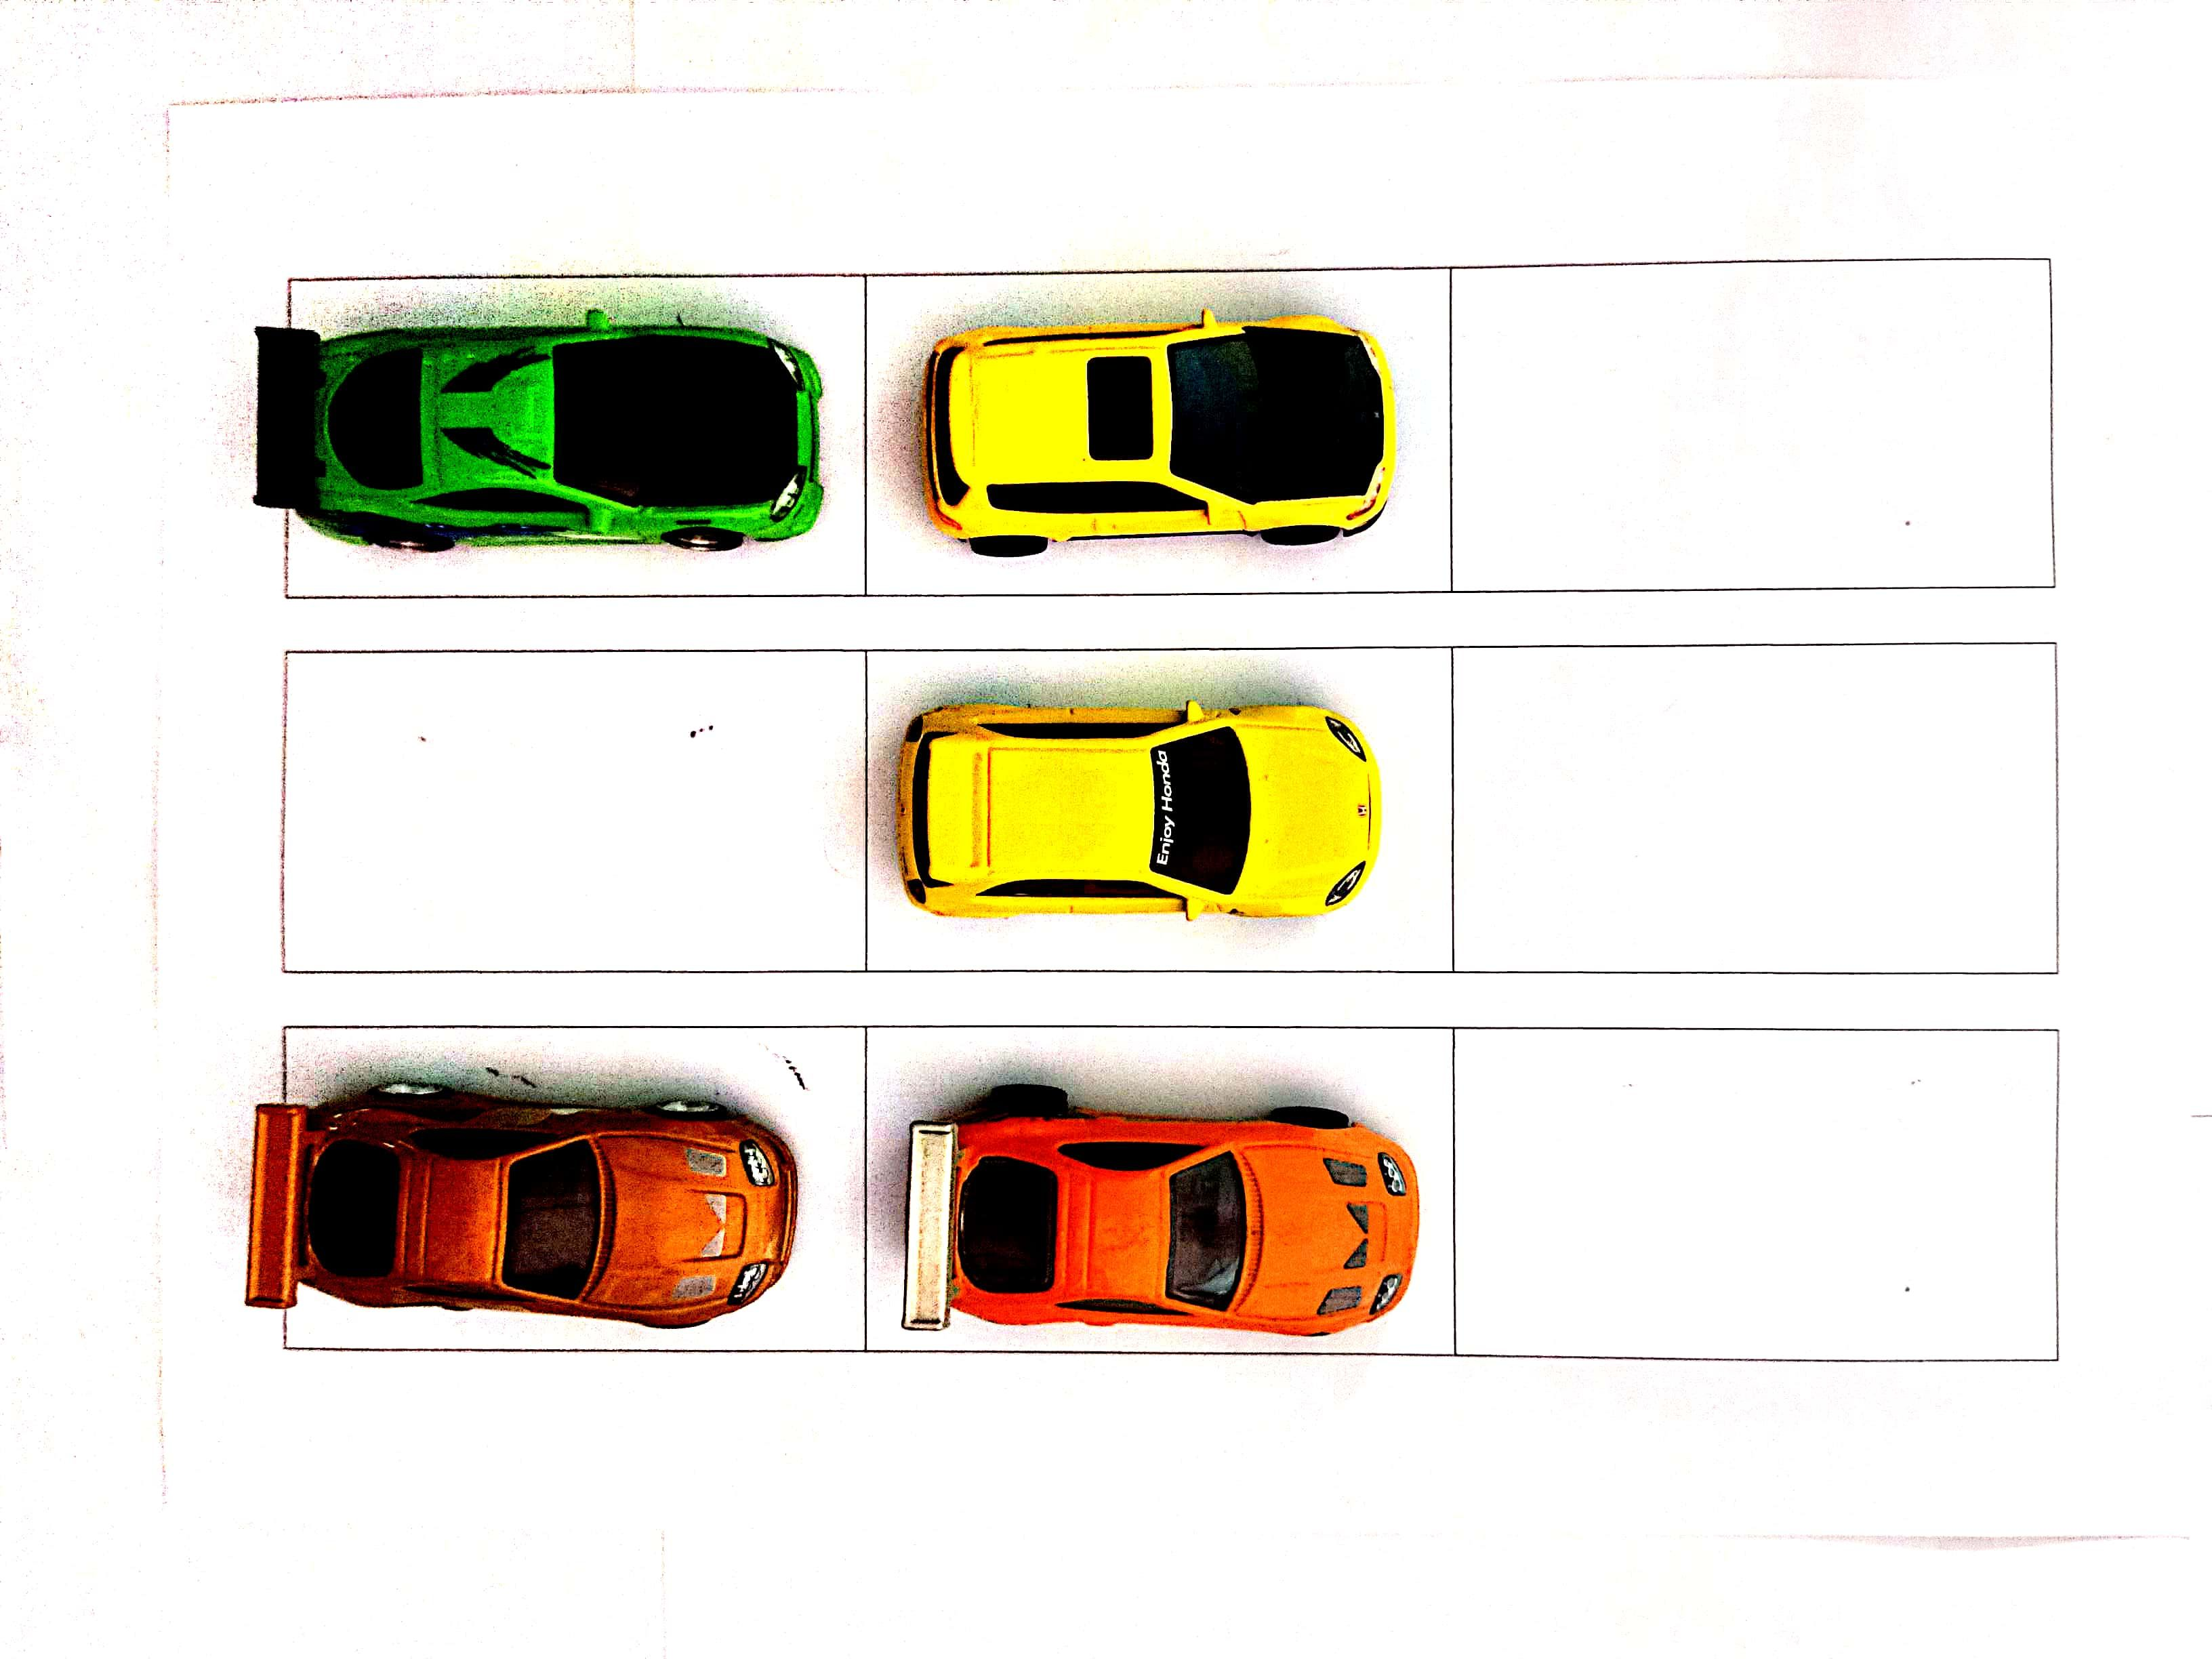Busy: (862, 648, 1451, 971), (287, 1028, 862, 1351), (866, 1028, 1449, 1345), (874, 272, 1451, 589), (291, 275, 860, 593)
Free: (1458, 1026, 2050, 1358), (1458, 261, 2045, 586), (1458, 648, 2054, 967), (286, 653, 860, 967)
